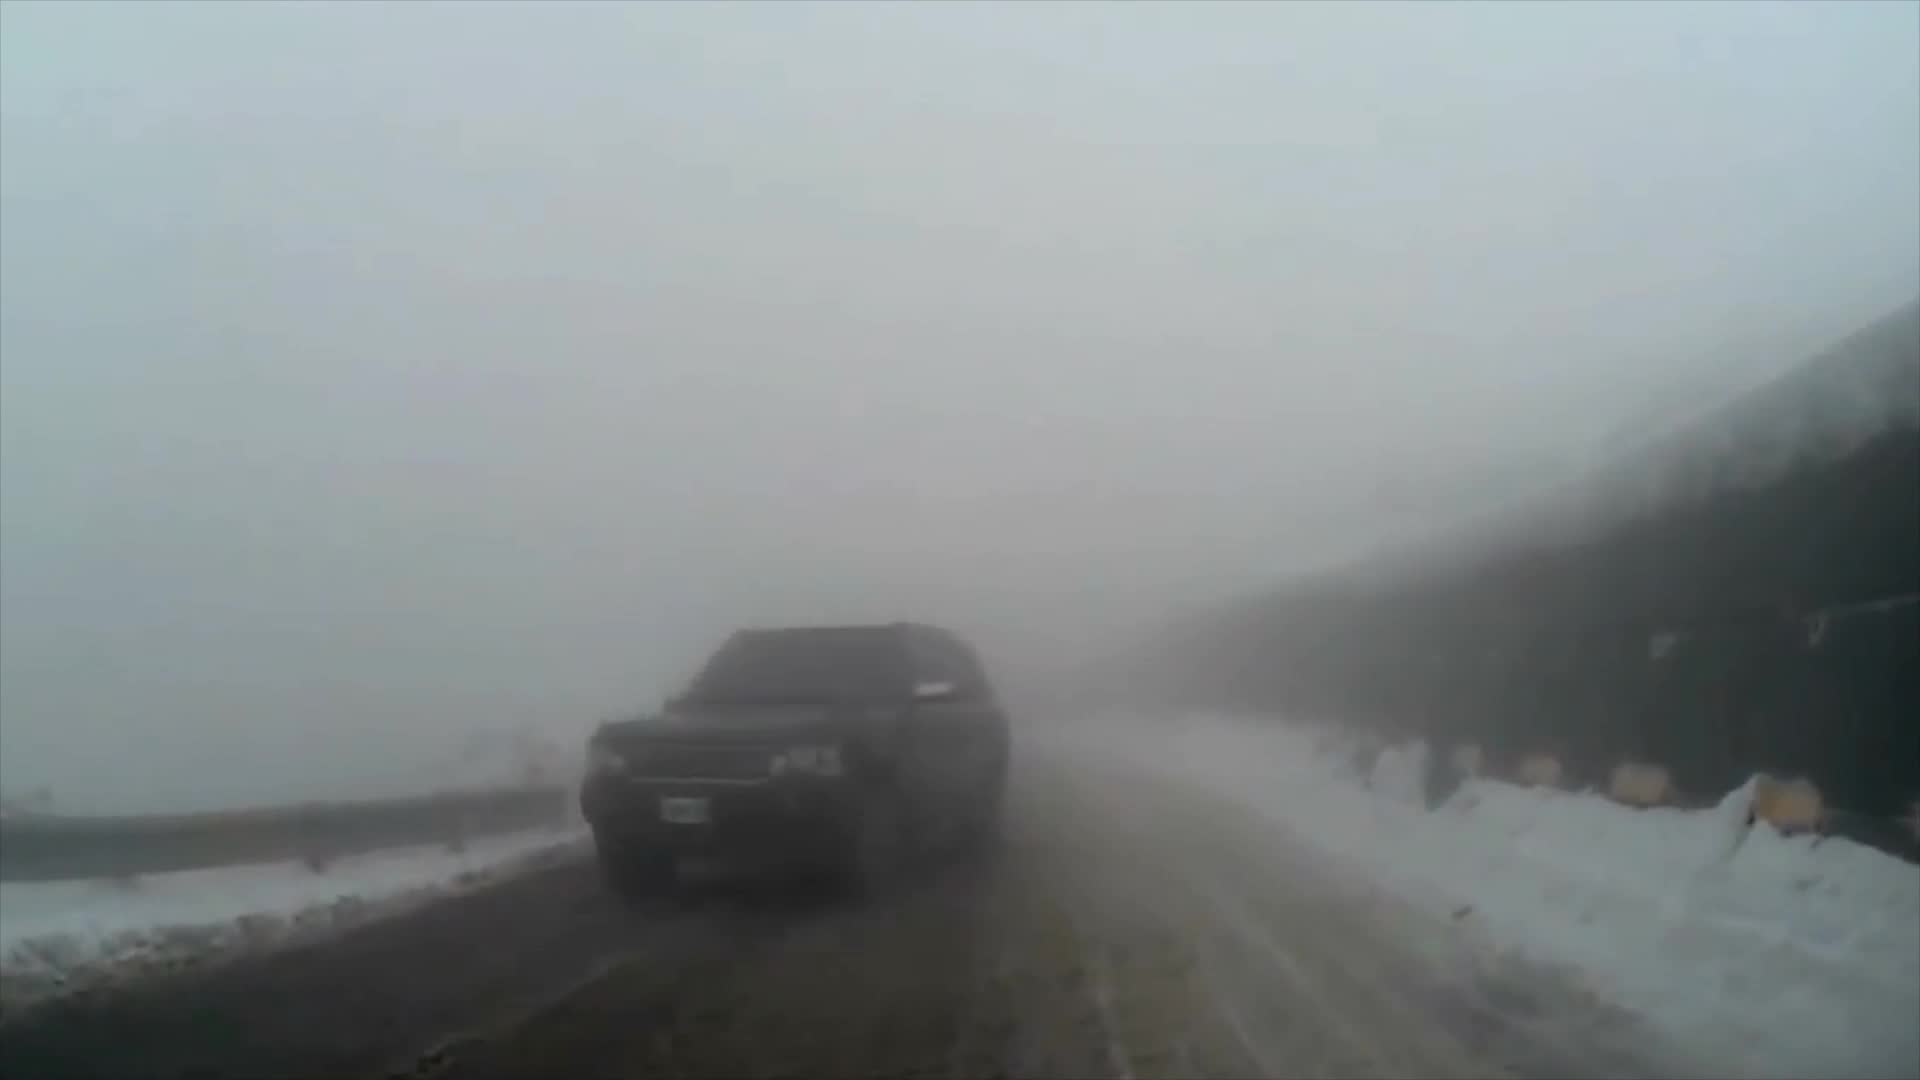vehicle: (589, 618, 1011, 913)
